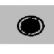correct: (16, 14, 45, 38)
